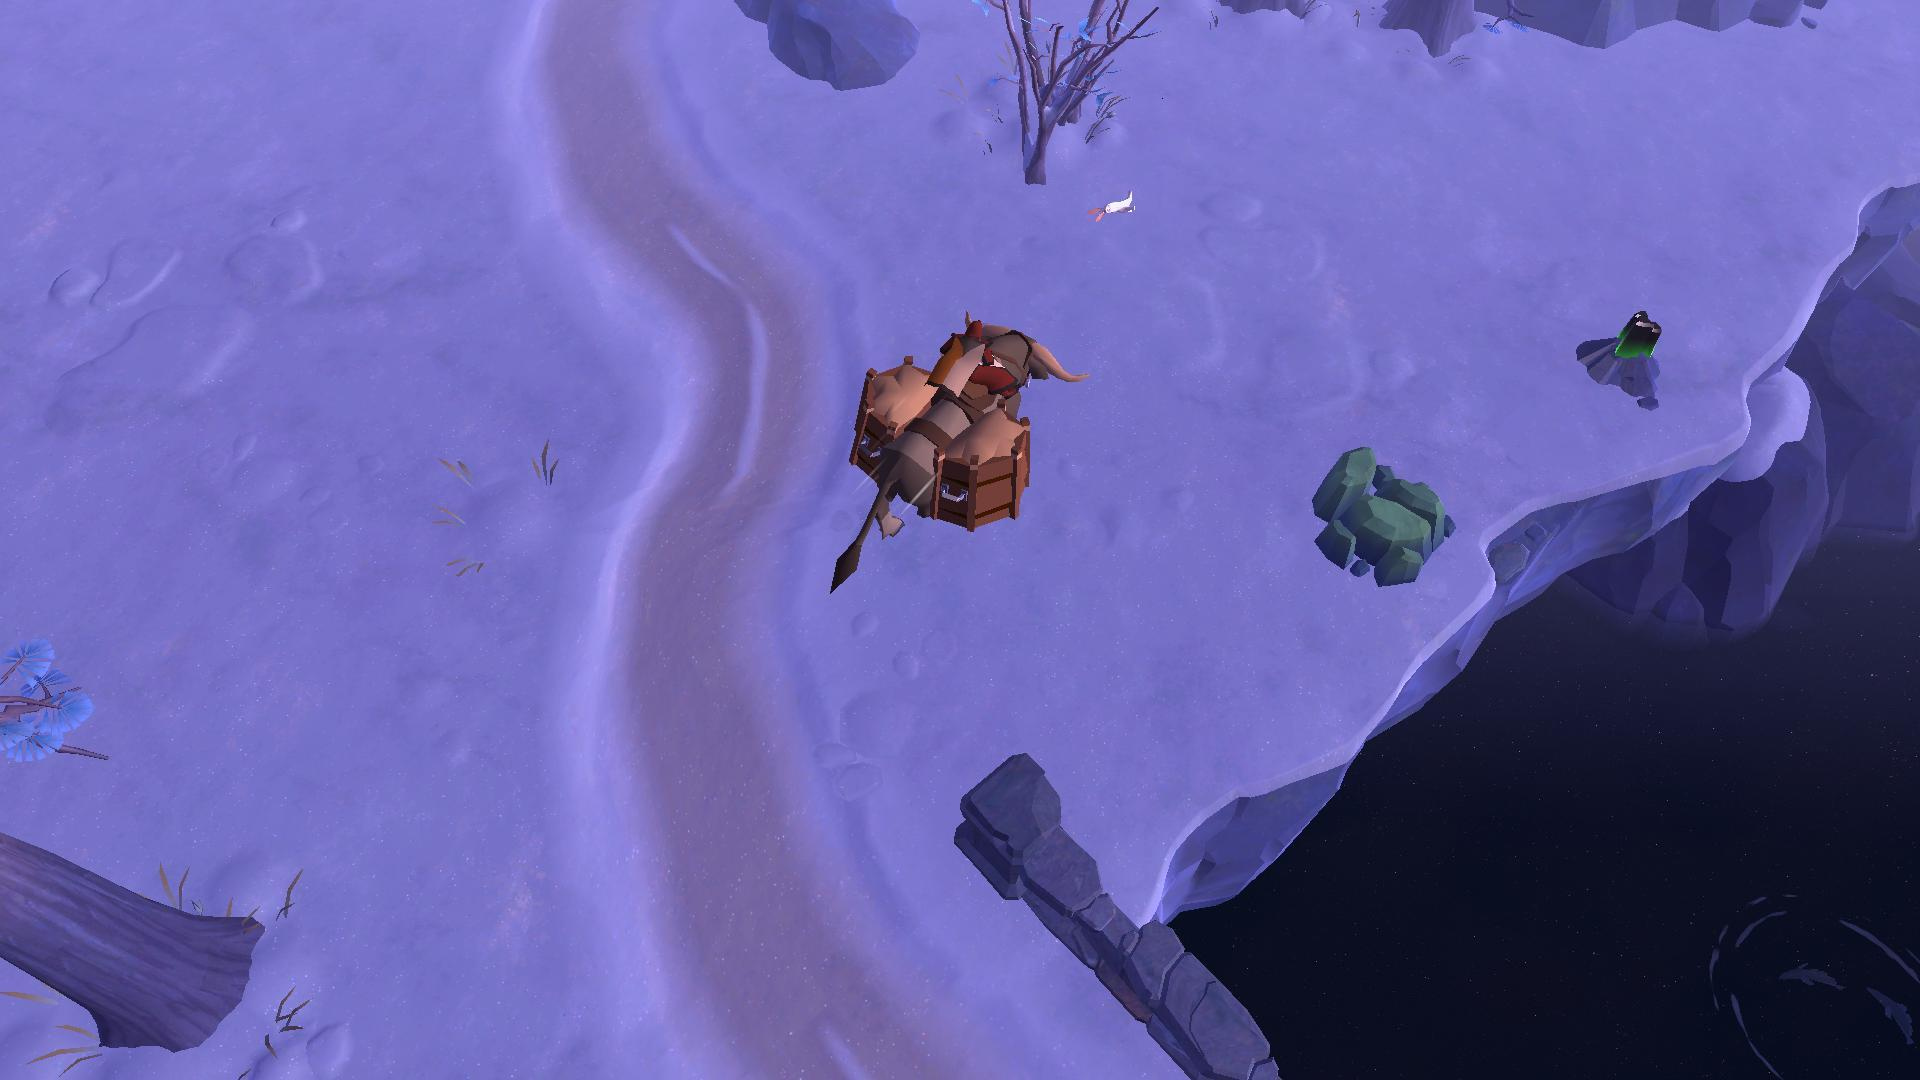ore_t3: (1618, 303, 1662, 373)
rock_t3: (1295, 443, 1452, 595)
